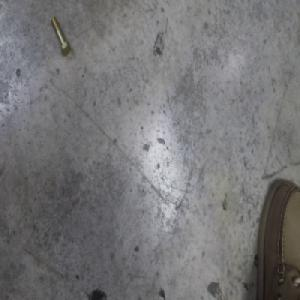Bolt: (49, 16, 70, 58)
